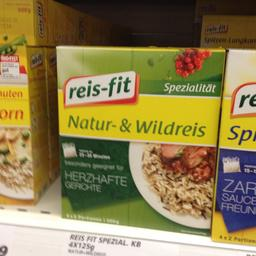rice: (55, 46, 224, 236)
